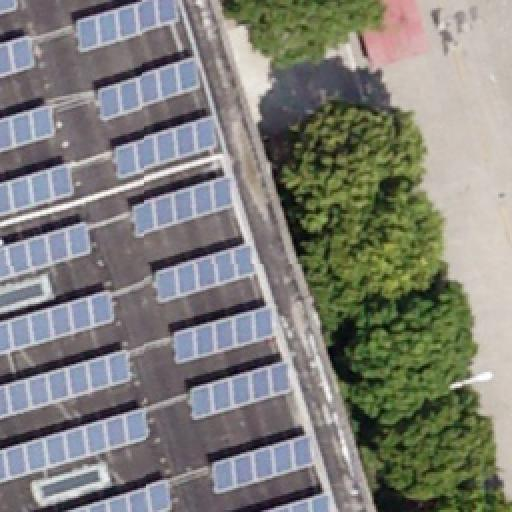solar-panel: (0, 404, 152, 484), (0, 347, 132, 421), (0, 286, 116, 358), (95, 56, 201, 124), (111, 115, 217, 181), (132, 176, 236, 240), (189, 361, 291, 423), (174, 301, 274, 363), (157, 244, 259, 304), (212, 435, 312, 493), (76, 1, 180, 55), (0, 223, 92, 281), (0, 162, 76, 218), (68, 478, 172, 510), (0, 103, 58, 153), (0, 34, 36, 78), (266, 490, 330, 510), (0, 1, 20, 15)
